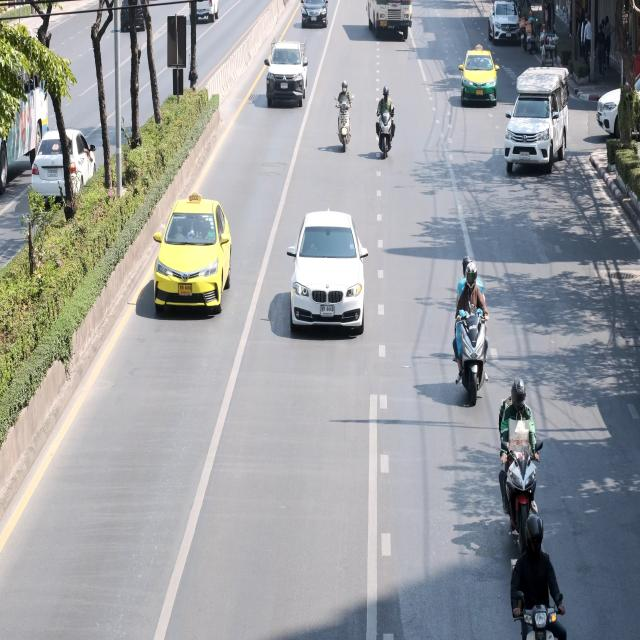bus: (0, 32, 59, 204)
cars: (281, 200, 377, 366), (150, 178, 239, 336), (495, 56, 576, 206), (26, 112, 105, 249), (251, 30, 315, 120), (589, 57, 640, 149), (451, 42, 503, 118), (360, 0, 416, 50), (106, 0, 160, 37), (486, 1, 524, 50), (292, 0, 334, 39), (186, 0, 230, 37)
motorcycle: (492, 361, 544, 549), (505, 516, 579, 640), (447, 253, 497, 415), (369, 80, 404, 173), (331, 62, 356, 157), (525, 10, 541, 55)
